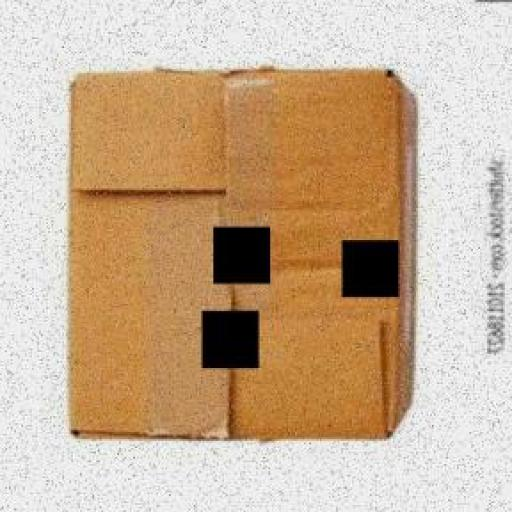box: (60, 61, 422, 447)
